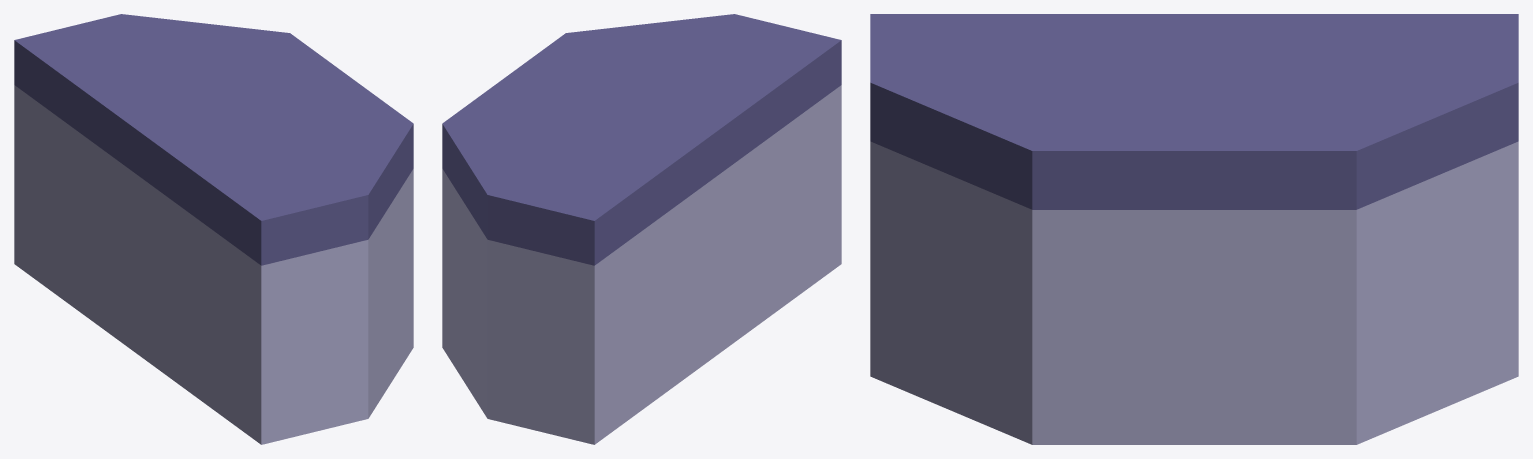
File: stone_wall_countertop.fbx
3 renders of one model, left to right at view 1: azimuth 30°, elevation 25°; view 2: azimuth 150°, elevation 25°; view 3: azimuth 270°, elevation 25°, orthographic. The views are drawn at different scales.
Parts seen in each view (by area): view 1: block_corner_small (×2); view 2: block_corner_small (×2); view 3: block_corner_small (×2).
Part boxes in pixels (bbox=[...]): block_corner_small (×2): bbox=[14, 14, 413, 444]; block_corner_small (×2): bbox=[442, 14, 841, 444]; block_corner_small (×2): bbox=[870, 14, 1518, 444].
Size of the model in its own units: 10 by 10 by 20.
